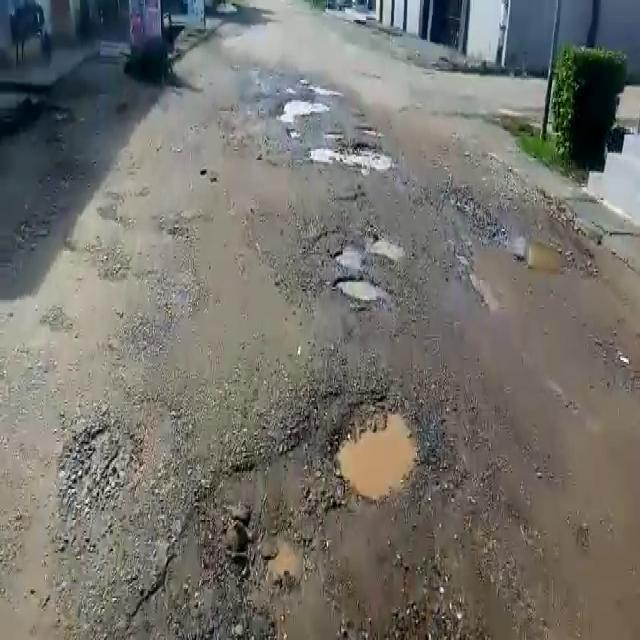pothole: (329, 400, 421, 507), (311, 138, 397, 169), (332, 234, 403, 267), (331, 271, 390, 302), (525, 238, 567, 273), (278, 98, 331, 121)
